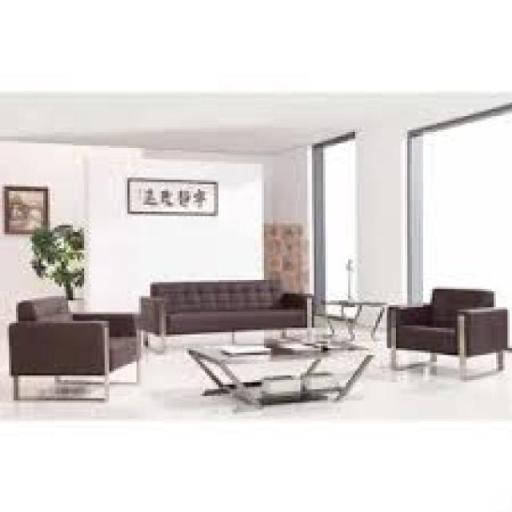sofa: (364, 252, 512, 404), (20, 299, 169, 429)
